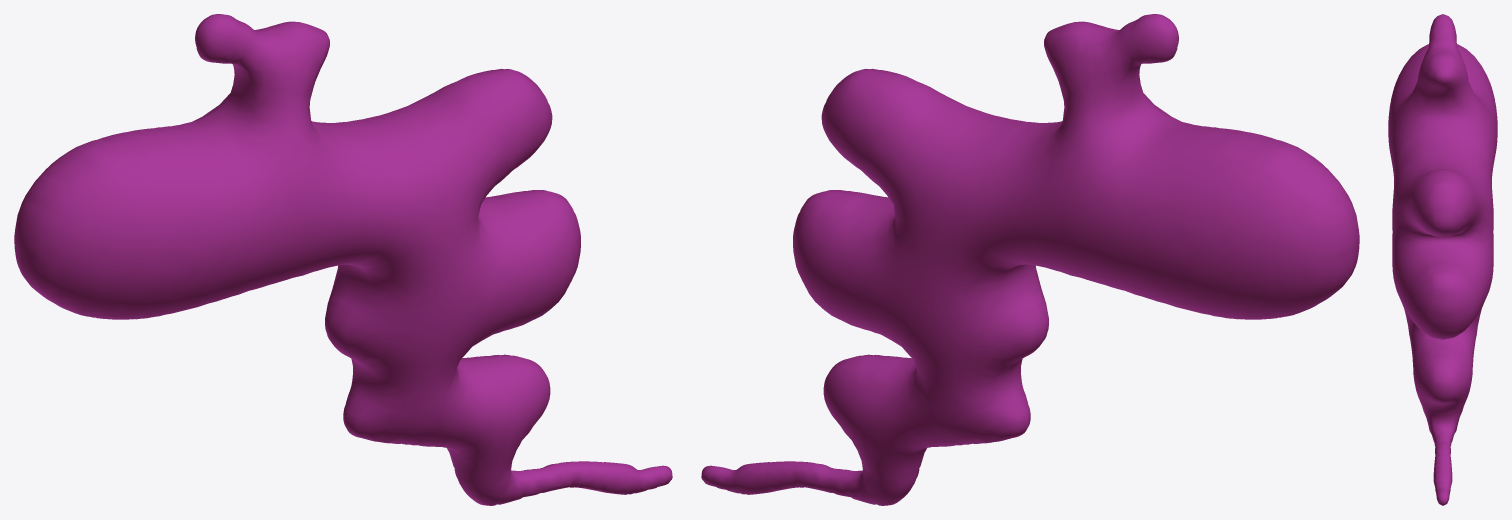
Rendered from mm_project (1).glb.
The picture shows the model from 3 angles, left to right: view 1: azimuth 30°, elevation 25°; view 2: azimuth 150°, elevation 25°; view 3: azimuth 270°, elevation 25°; orthographic projection. The views are drawn at different scales.
Visible parts, largest first — view 1: 80e6b219-17a3-452e-a9bc-b52285b6ba4f; view 2: 80e6b219-17a3-452e-a9bc-b52285b6ba4f; view 3: 80e6b219-17a3-452e-a9bc-b52285b6ba4f.
Boxes of the visible parts, x1,y1,x2,y2 form: 80e6b219-17a3-452e-a9bc-b52285b6ba4f: [14, 14, 672, 505]; 80e6b219-17a3-452e-a9bc-b52285b6ba4f: [701, 14, 1359, 505]; 80e6b219-17a3-452e-a9bc-b52285b6ba4f: [1388, 14, 1497, 505].
Bounding box in the file's own units: 5.87 × 4.99 × 1.39.
